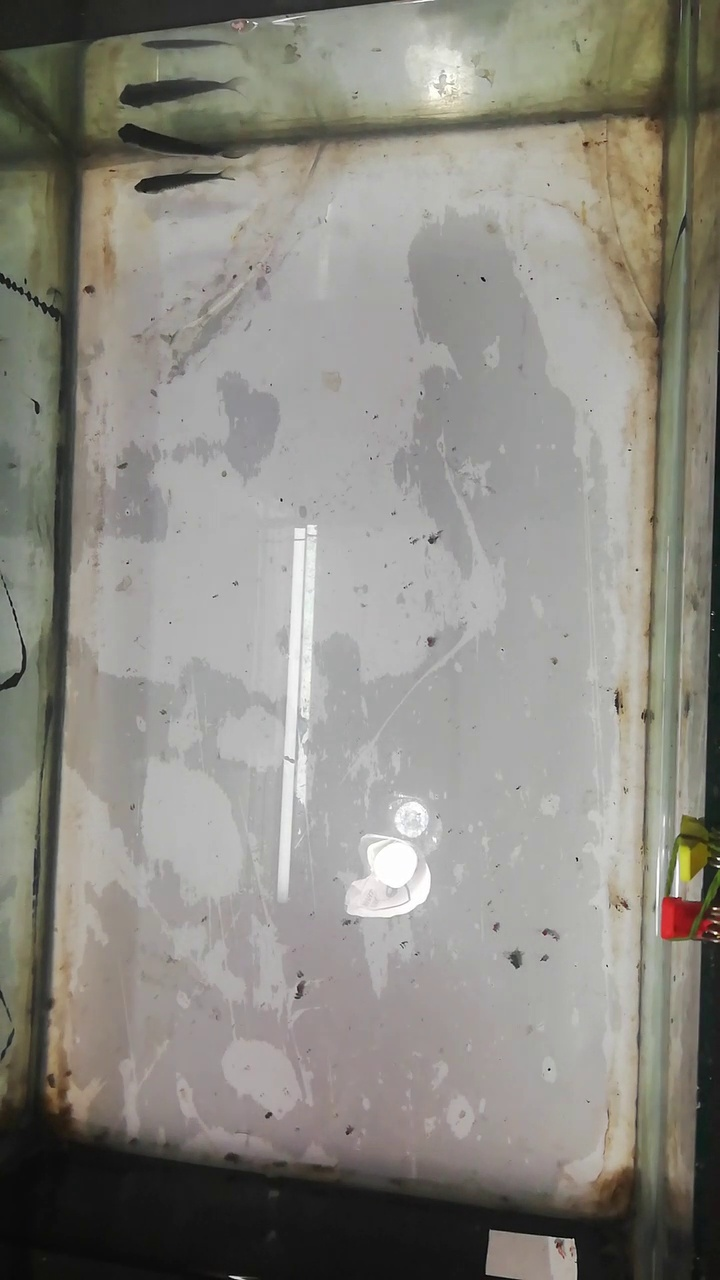fish1: (119, 121, 234, 159)
fish2: (136, 171, 234, 194)
